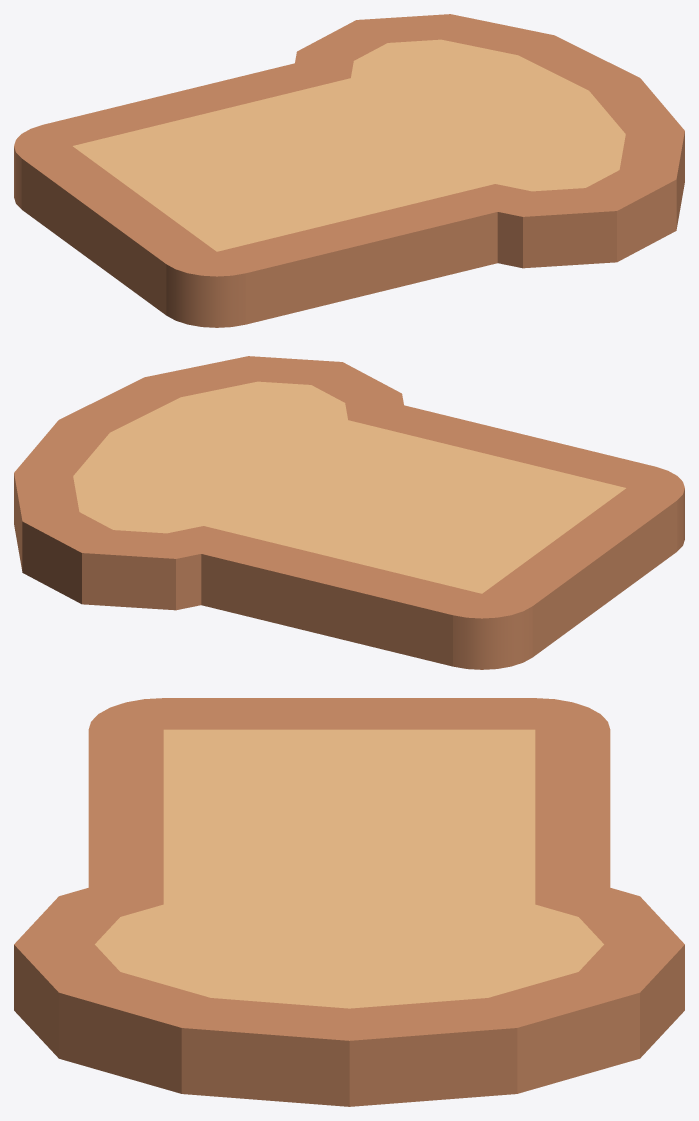
File: bread.fbx
3 renders of one model, top to bottom at view 1: azimuth 30°, elevation 25°; view 2: azimuth 150°, elevation 25°; view 3: azimuth 270°, elevation 25°, orthographic. The views are drawn at different scales.
Parts seen in each view (by area): view 1: bread; view 2: bread; view 3: bread.
Part boxes in pixels (box(x1,y1,x2,y2)): bread: box(14, 14, 684, 327); bread: box(14, 356, 684, 669); bread: box(14, 698, 684, 1106).
Size of the model in its own units: 4.42 by 0.3974 by 3.66.
